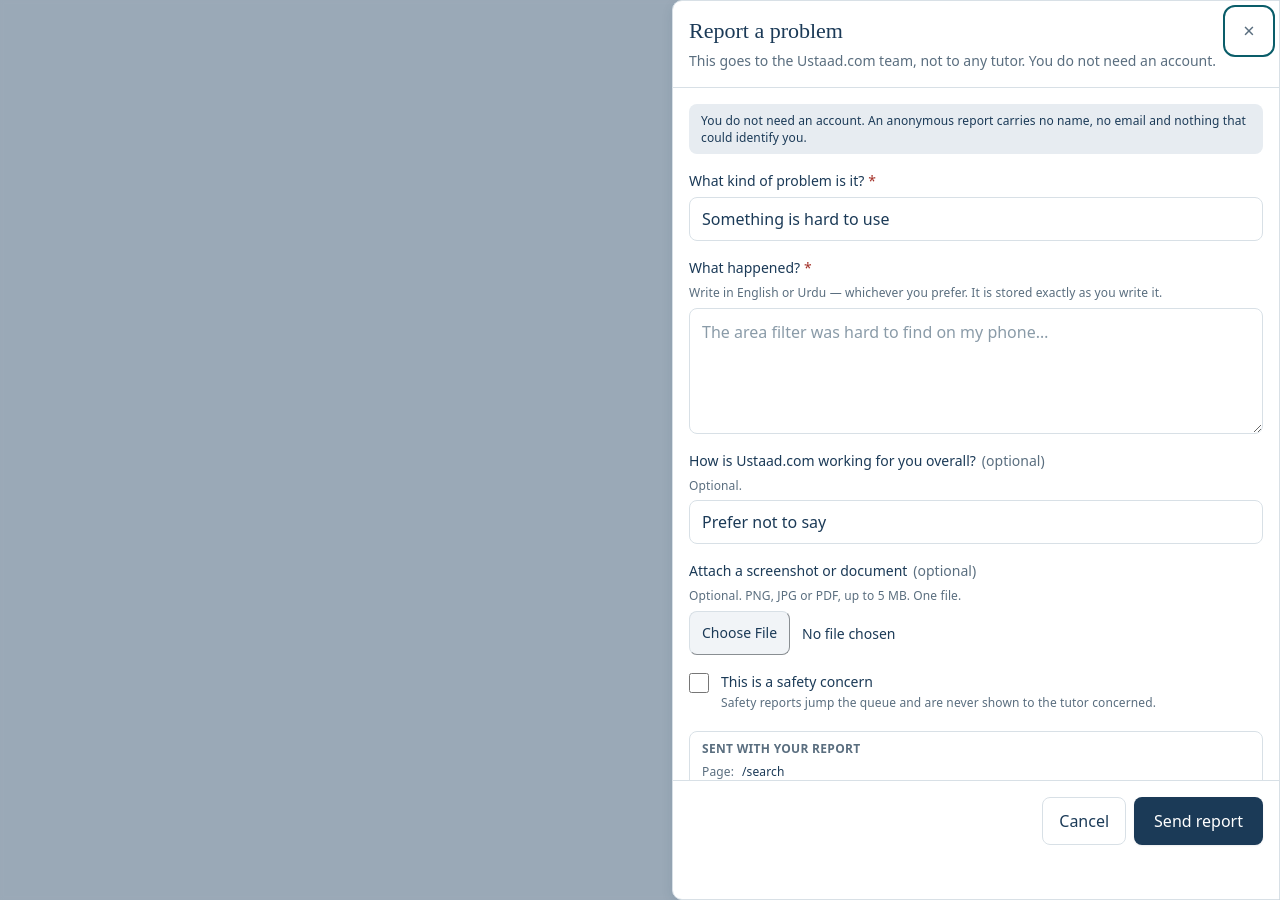
Test case: the feedback panel › says what happens next, not just thank you
The width and height of the screenshot is (1280, 900).
Type "The Urdu view broke a layout." into the text box labelled "What happened?*". click: [976, 371]
box: [689,308,1263,434]
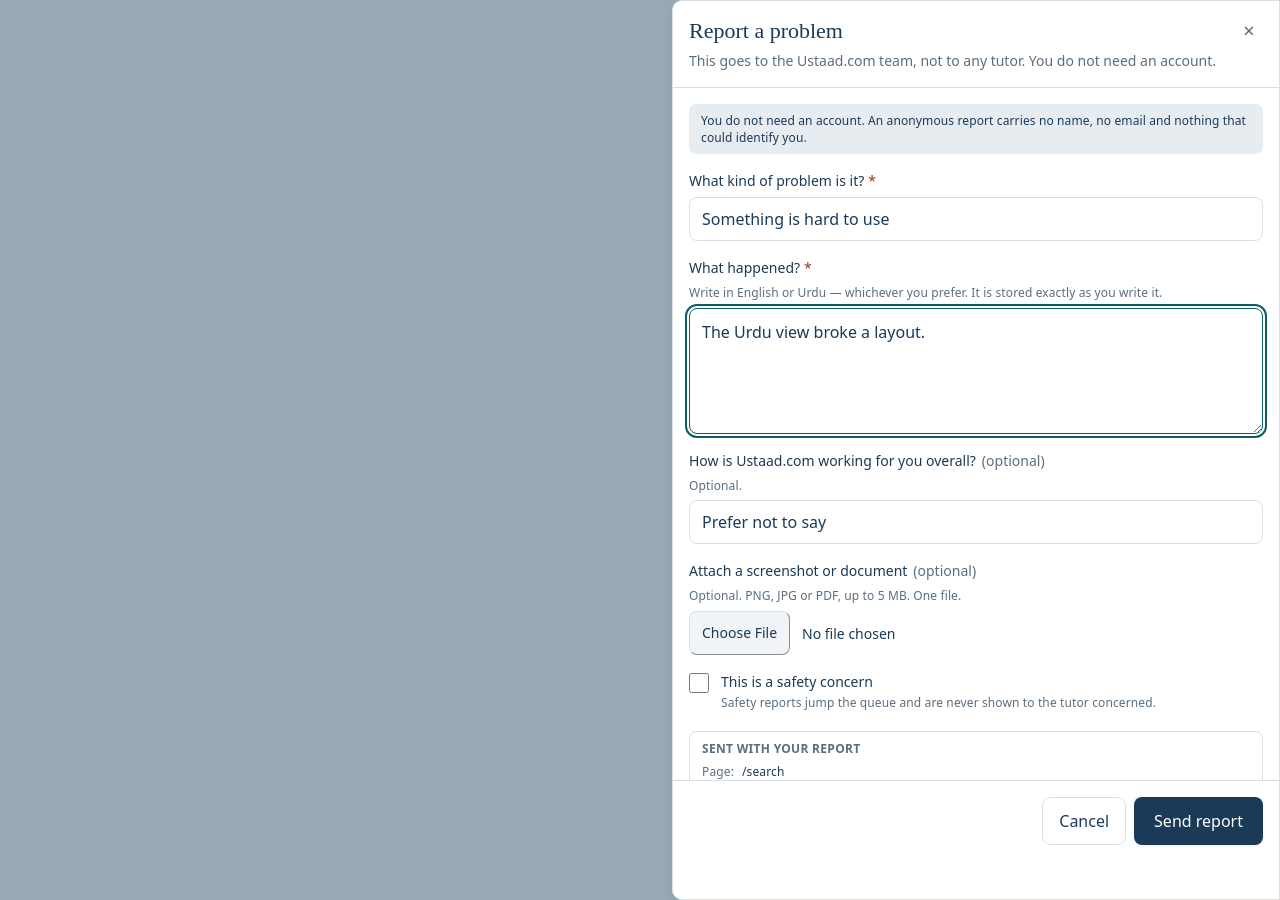
Click the button "Send report". click: [1199, 821]
box: [1134,797,1263,845]
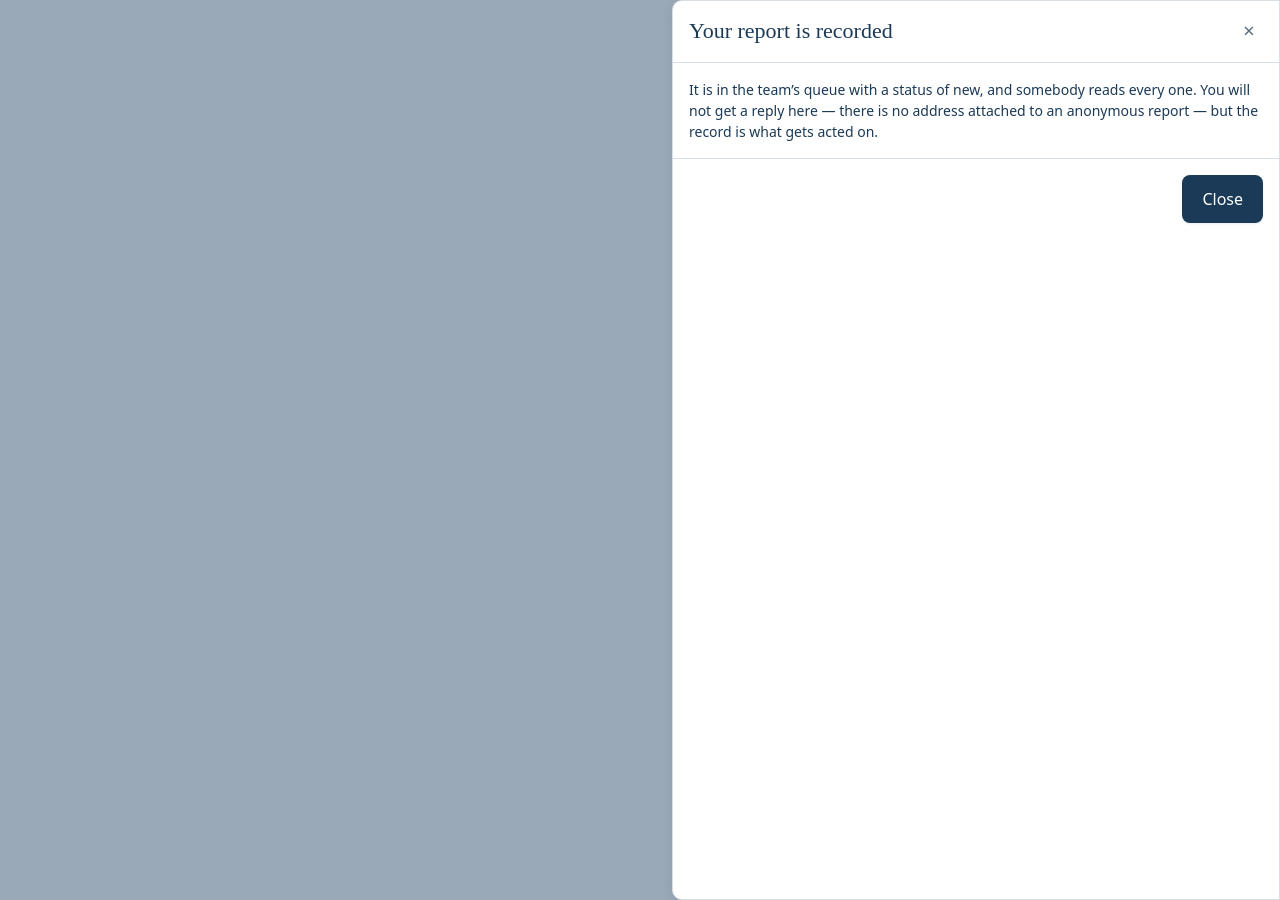
Result: the text "in the team’s queue" is shown at [689,80,1258,141]
